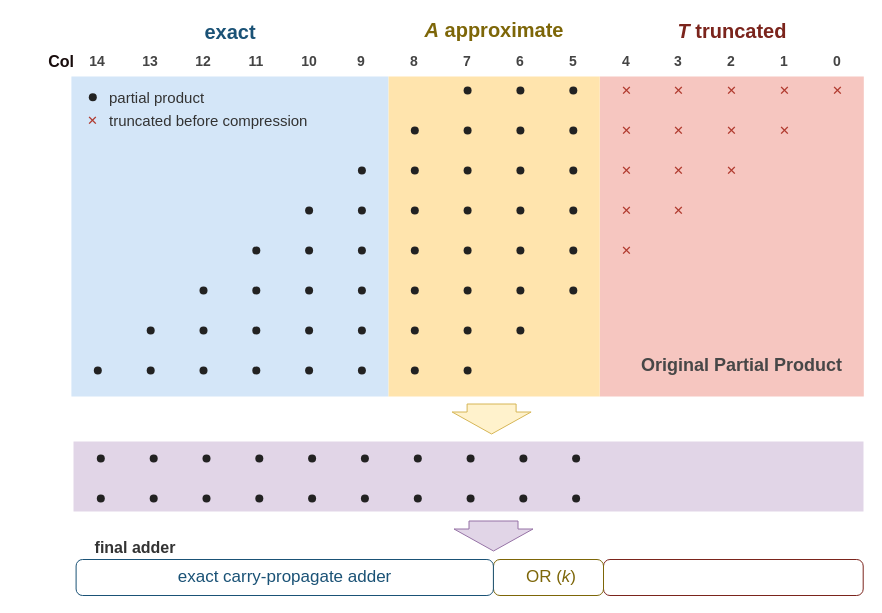
This 882x613 diagram has some shape labels left out. The shapes that lost their labels are listed below. From the top down, each one's centre as x and y in pixels, then its label:
At (468,476): "Final Partial Product".
At (732,577): "dropped".
